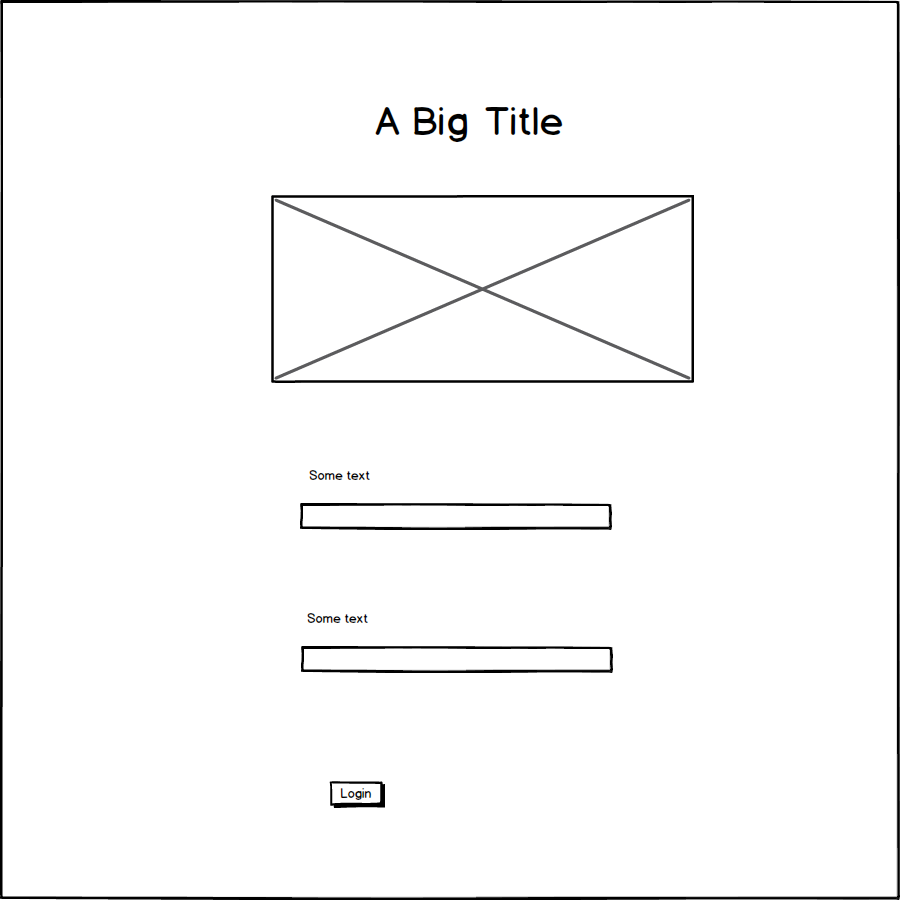button: (322, 775, 396, 814)
h1: (364, 95, 572, 156)
image: (261, 188, 705, 392)
input: (300, 641, 619, 684), (294, 499, 622, 540)
label: (300, 456, 385, 491), (302, 608, 375, 633)
